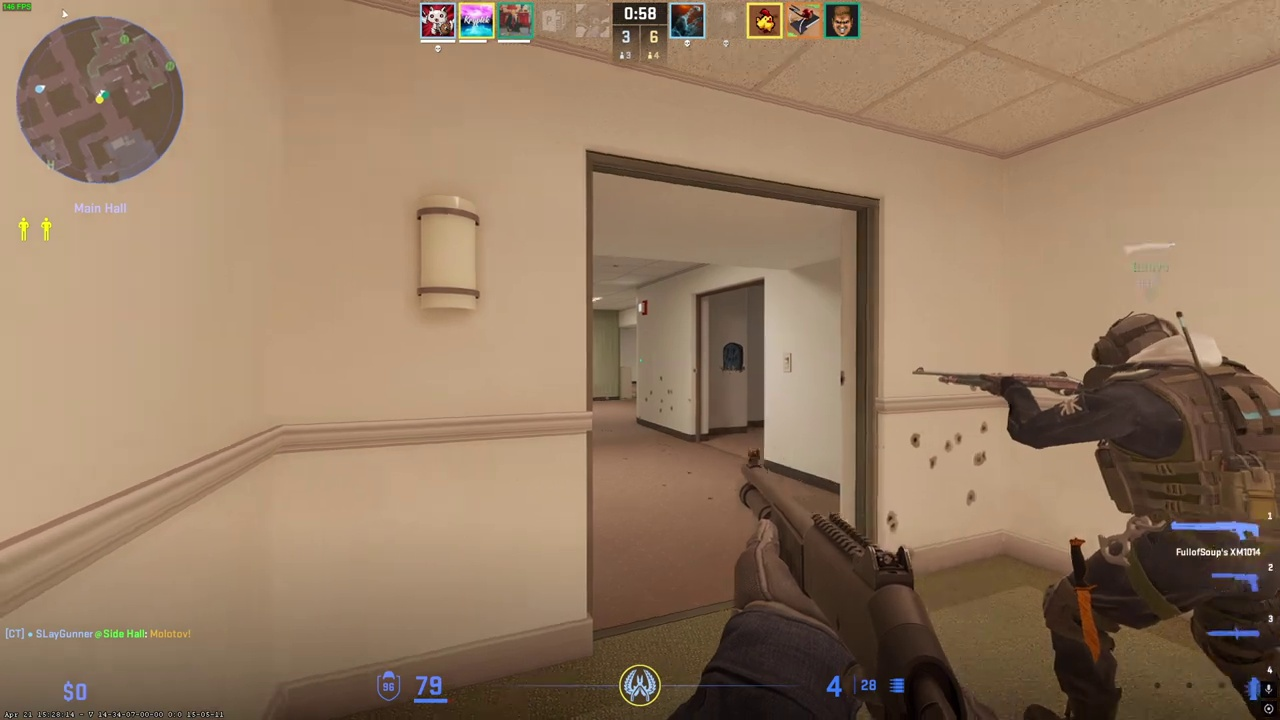CT: (1030, 310, 1280, 720)
